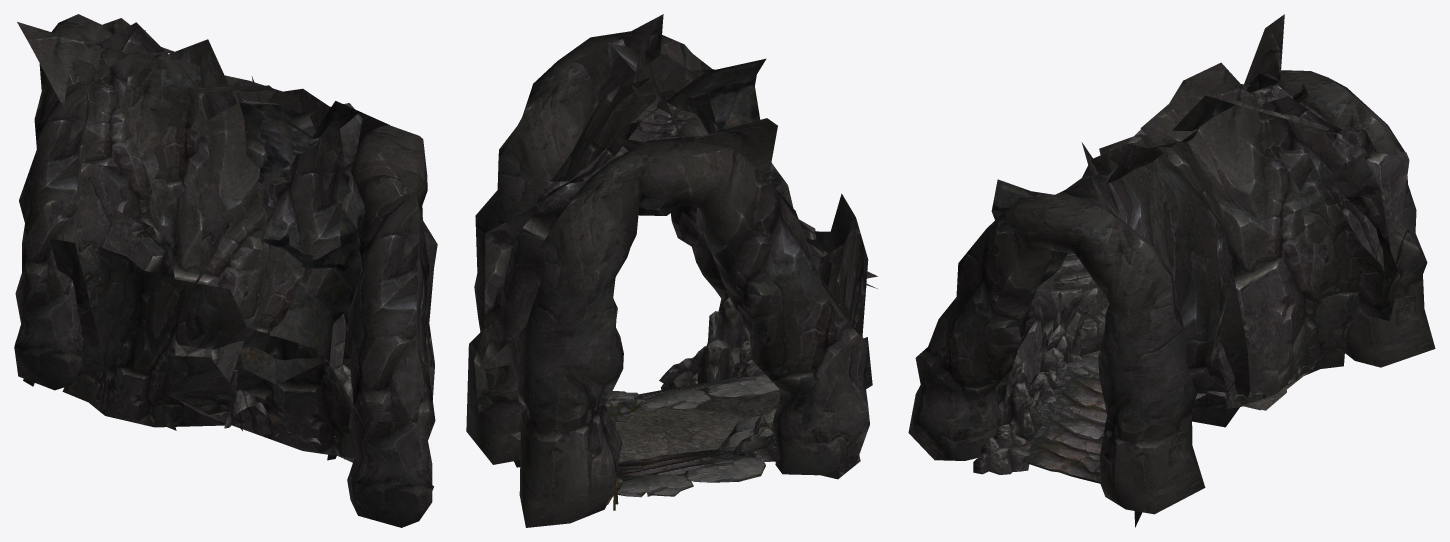
File: HSD_zhenghe_02.FBX
3 renders of one model, left to right at view 1: azimuth 30°, elevation 25°; view 2: azimuth 150°, elevation 25°; view 3: azimuth 270°, elevation 25°, orthographic. The views are drawn at different scales.
Parts seen in each view (by area): view 1: HSD_zhenghe_02_01, HSD_zhenghe_02_03, HSD_zhenghe_02_02; view 2: HSD_zhenghe_02_01, HSD_zhenghe_02_02, HSD_zhenghe_02_03; view 3: HSD_zhenghe_02_01, HSD_zhenghe_02_03, HSD_zhenghe_02_02.
Boxes of the visible parts, left/top/right/bottom form: HSD_zhenghe_02_01: left=14, top=14, right=437, bottom=527; HSD_zhenghe_02_03: left=236, top=92, right=365, bottom=462; HSD_zhenghe_02_02: left=23, top=276, right=433, bottom=490; HSD_zhenghe_02_01: left=466, top=14, right=877, bottom=527; HSD_zhenghe_02_02: left=510, top=292, right=860, bottom=479; HSD_zhenghe_02_03: left=610, top=39, right=823, bottom=481; HSD_zhenghe_02_01: left=908, top=14, right=1435, bottom=527; HSD_zhenghe_02_03: left=991, top=129, right=1315, bottom=483; HSD_zhenghe_02_02: left=973, top=347, right=1325, bottom=474.
Size of the model in its own units: 5157 by 5684 by 7057.
